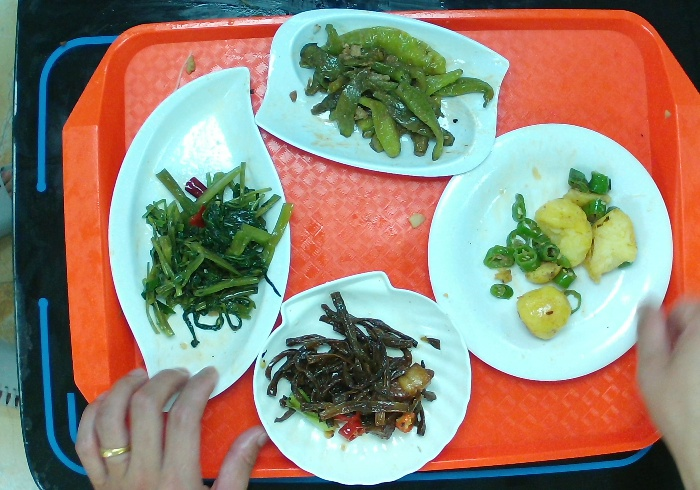RJxy-Bei_Ke_Wan: (243, 262, 476, 488)
RJxy-Jian_Jiao_Fang_Die: (247, 1, 516, 185)
RJxy-Jian_Jiao_Pan: (101, 62, 295, 414)
RJxy-Yuan_Pan: (419, 115, 680, 390)
